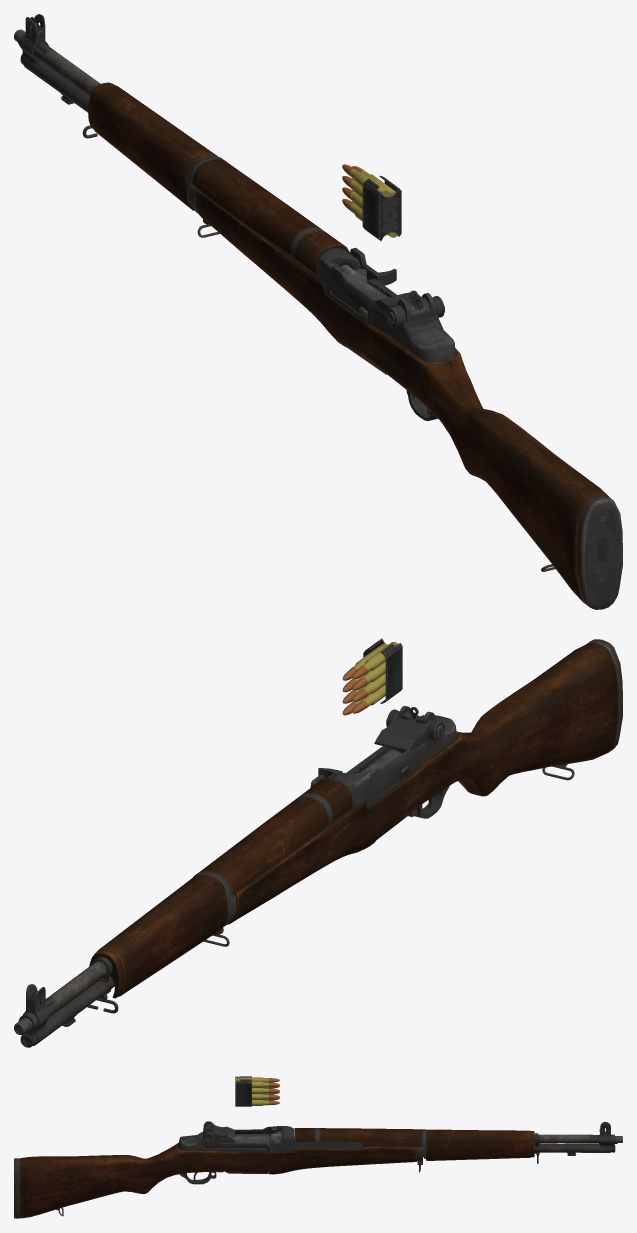
The model's file is semi.glb.
The picture shows the model from 3 angles, top to bottom: view 1: azimuth 30°, elevation 25°; view 2: azimuth 150°, elevation 25°; view 3: azimuth 270°, elevation 25°; orthographic projection. The views are drawn at different scales.
Parts seen in each view (by area): view 1: Gun, Bullet_pack; view 2: Gun, Bullet_pack; view 3: Gun, Bullet_pack.
Part boxes in pixels (left/top/right/bottom): Gun: left=14, top=14, right=622, bottom=609; Bullet_pack: left=342, top=164, right=401, bottom=240; Gun: left=14, top=639, right=622, bottom=1047; Bullet_pack: left=342, top=638, right=402, bottom=715; Gun: left=14, top=1121, right=622, bottom=1218; Bullet_pack: left=235, top=1076, right=279, bottom=1106.
Size of the model in its own units: 0.126 by 0.5047 by 2.
Materials: 2 (2 with a texture image).
